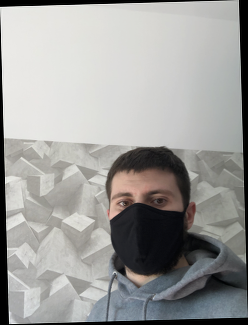with_mask: (110, 180, 187, 278)
